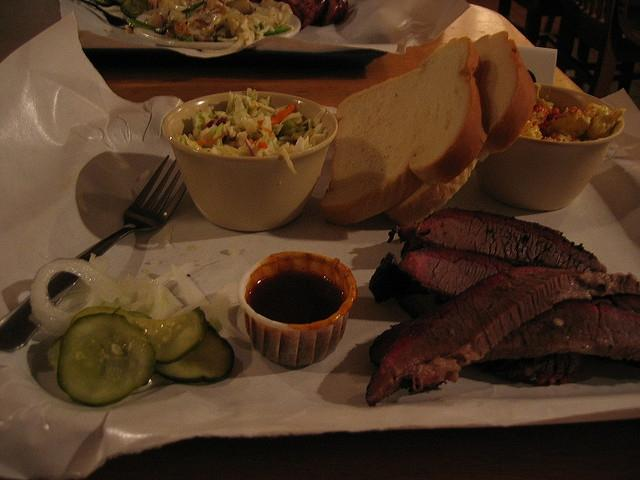onion: (30, 259, 116, 336), (214, 282, 253, 343), (170, 262, 210, 305), (146, 284, 182, 320), (120, 279, 152, 302)
